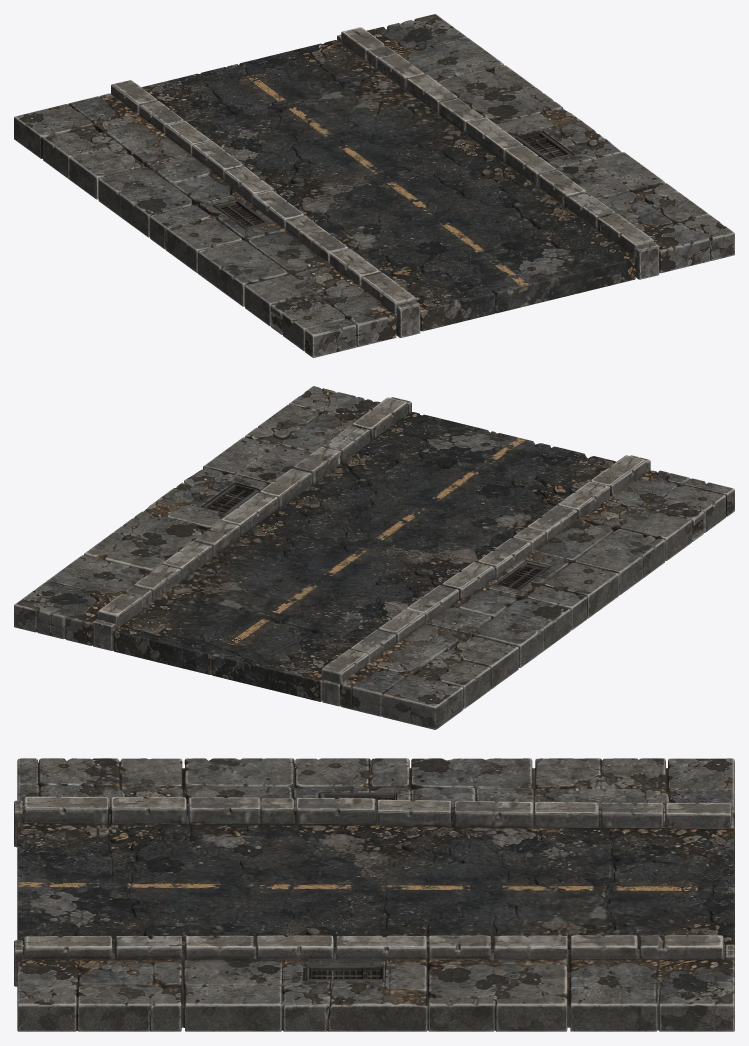
File: pista_e_caussada_DKB.glb
3 views of the same model, one above another, from view 1: azimuth 30°, elevation 25°; view 2: azimuth 150°, elevation 25°; view 3: azimuth 270°, elevation 25° (orthographic). The views are drawn at different scales.
Bounding box in the file's own units: 1.55 × 0.1149 × 1.9.
Materials: 1 (1 with a texture image).
